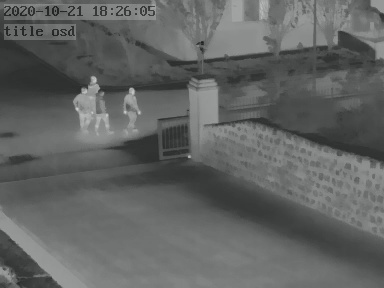person: (122, 87, 142, 133), (73, 86, 93, 132), (92, 88, 111, 134), (84, 75, 101, 99)
